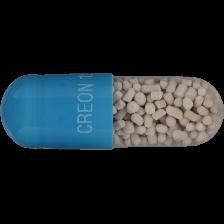0032-3016: (0, 0, 224, 224)
